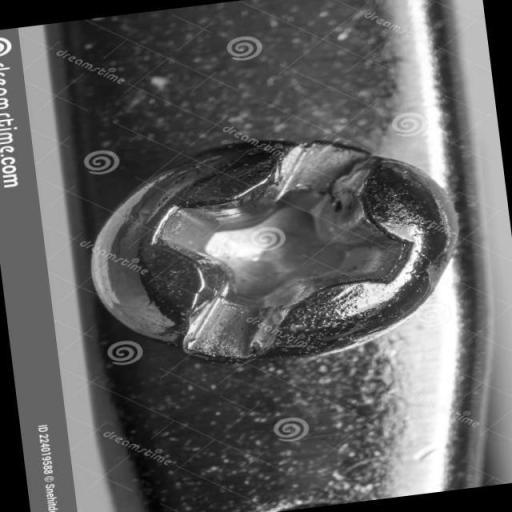Phillips: (88, 115, 458, 384)
